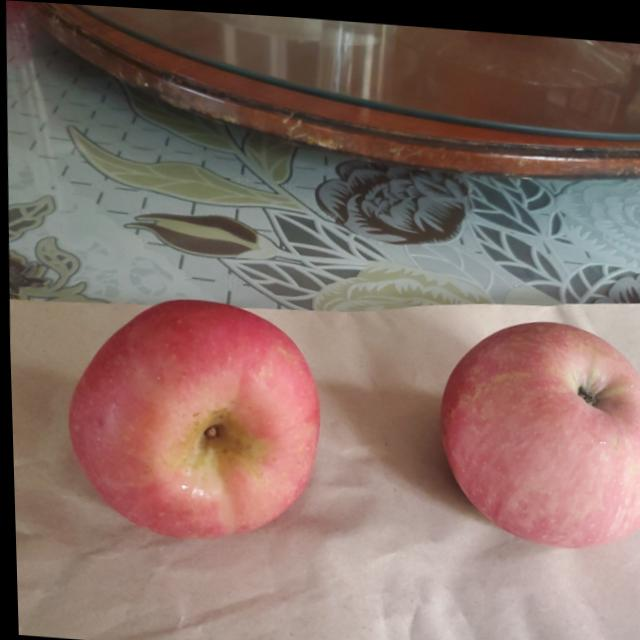apple: (60, 288, 317, 544), (436, 311, 640, 551)
